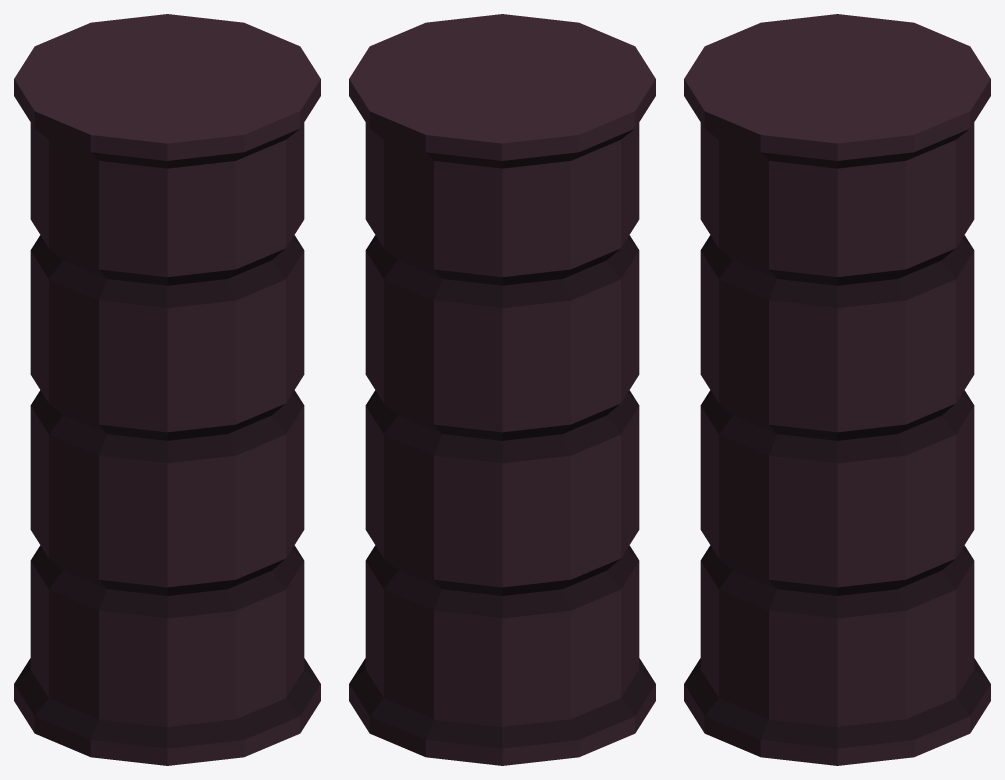
Rendered from column01.fbx.
The picture shows the model from 3 angles, left to right: view 1: azimuth 30°, elevation 25°; view 2: azimuth 150°, elevation 25°; view 3: azimuth 270°, elevation 25°; orthographic projection.
Parts seen in each view (by area): view 1: column01; view 2: column01; view 3: column01.
Boxes of the visible parts, <box> form: column01: <box>14,14,320,765</box>; column01: <box>349,14,655,765</box>; column01: <box>684,14,990,765</box>.
Size of the model in its own units: 89.6 by 201 by 89.6.
